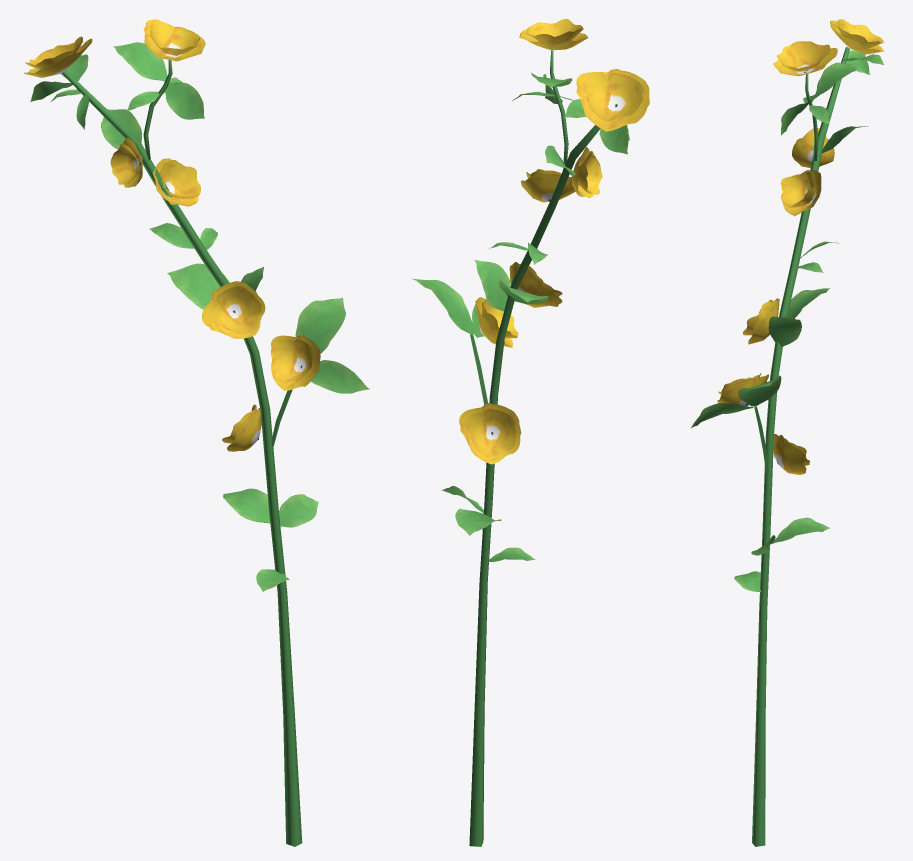
File: SM_flower_tall_03.fbx
3 views of the same model, side by side, from view 1: azimuth 30°, elevation 25°; view 2: azimuth 150°, elevation 25°; view 3: azimuth 270°, elevation 25° (orthographic). The views are drawn at different scales.
Parts seen in each view (by area): view 1: Line023; view 2: Line023; view 3: Line023.
Boxes of the visible parts, x1=… form: Line023: x1=24, y1=19, x2=369, y2=846; Line023: x1=411, y1=19, x2=649, y2=846; Line023: x1=691, y1=19, x2=884, y2=846.
Bounding box in the file's own units: 23.46 × 65.12 × 16.52.
